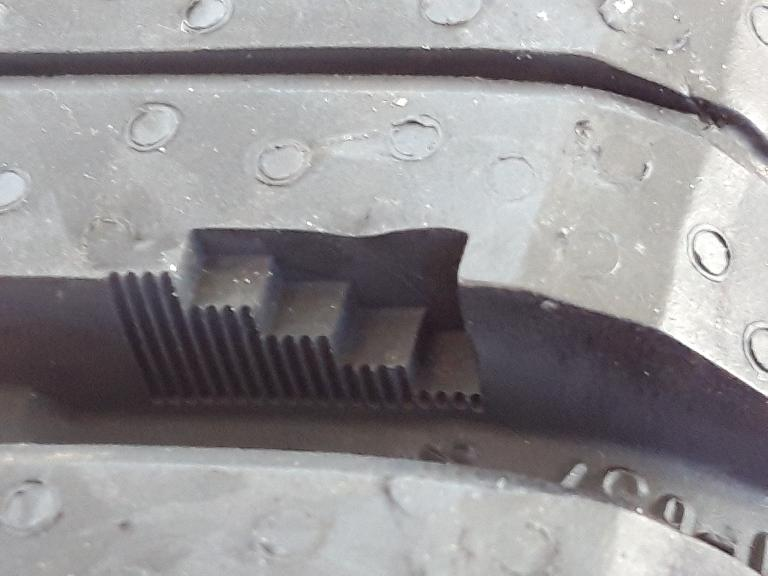temoin:100: (105, 222, 494, 419)
